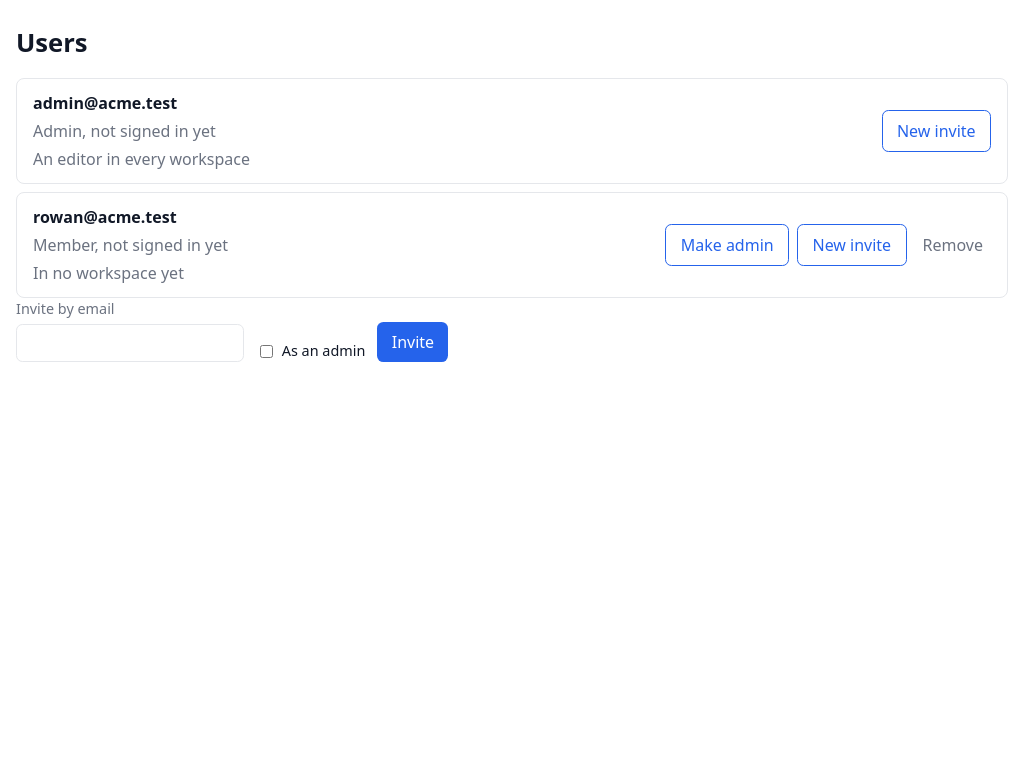
gives the invite link to pass on when the instance has no mail
Expected: the text "rowan@acme.test" is shown, [33,206,177,228]
Step 1. Type "new@acme.test" into the field labelled "Invite by email" → {"x": 130, "y": 343}, box [16,324,244,362]
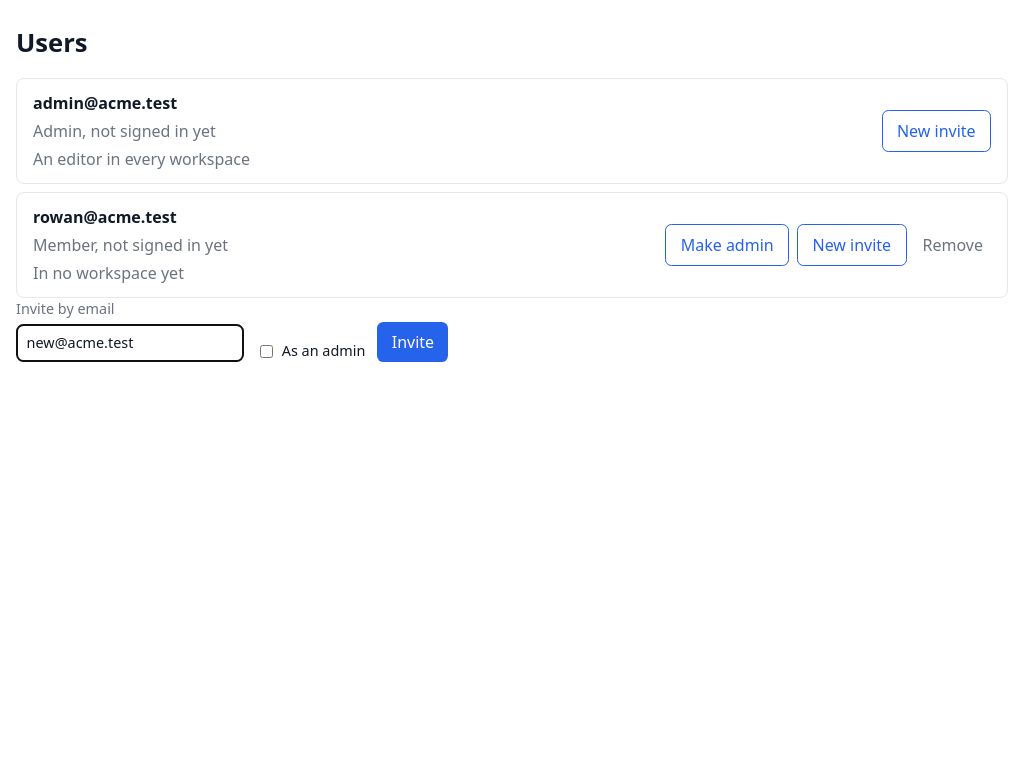
Step 2. Click the button "Invite" → {"x": 413, "y": 342}, box [377,322,448,362]
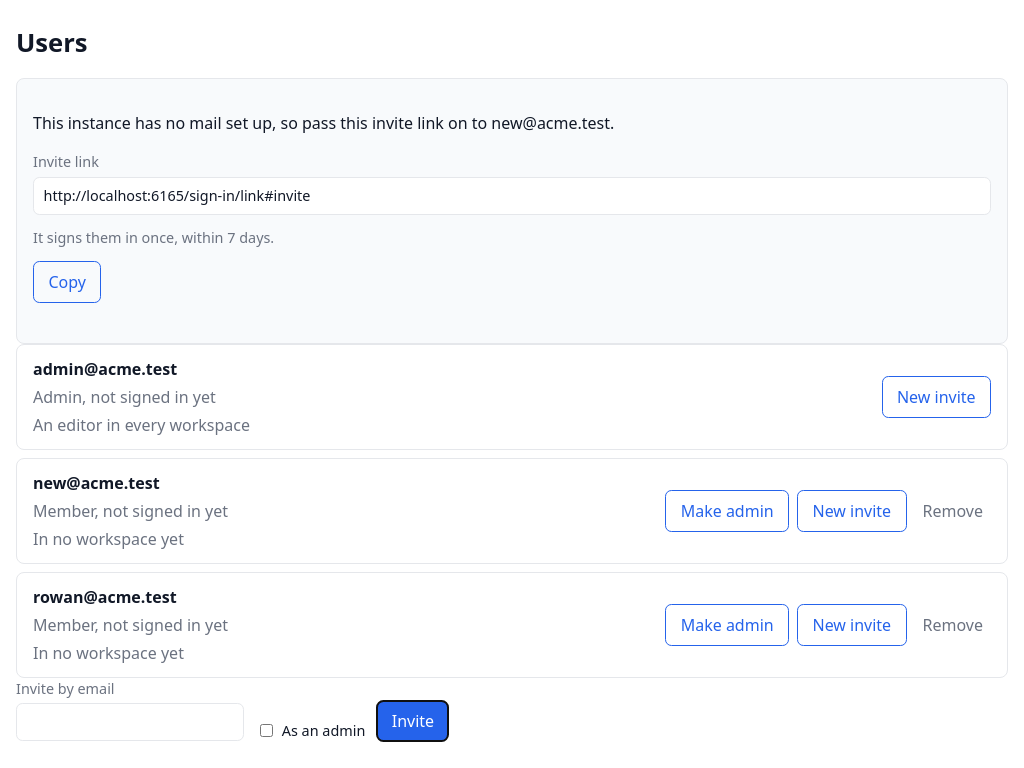
Expected: the text "This instance has no mail set up, so pass this invite link on to new@acme.test." is shown, [33,112,614,134]
Expected: the field labelled "Invite link" holds "http://localhost:6165/sign-in/link#invite", [33,177,991,215]
